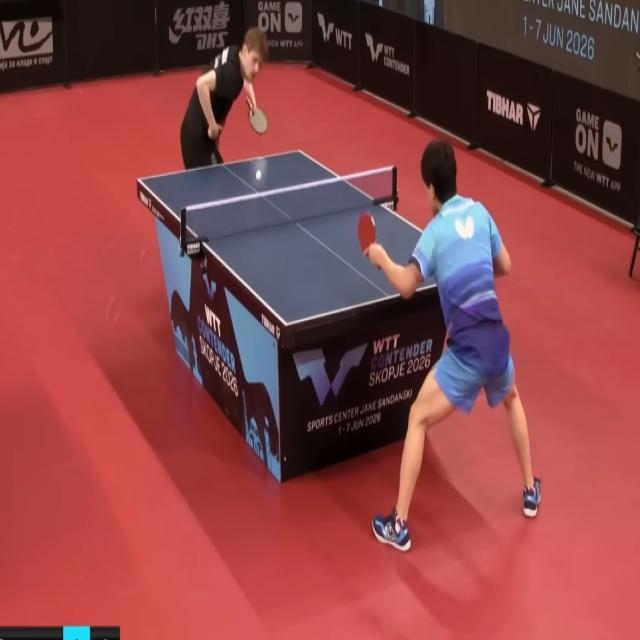TT Net: (173, 165, 407, 253)
TT Racket: (348, 200, 387, 268), (235, 101, 279, 145)
TT Table: (137, 119, 495, 348)
